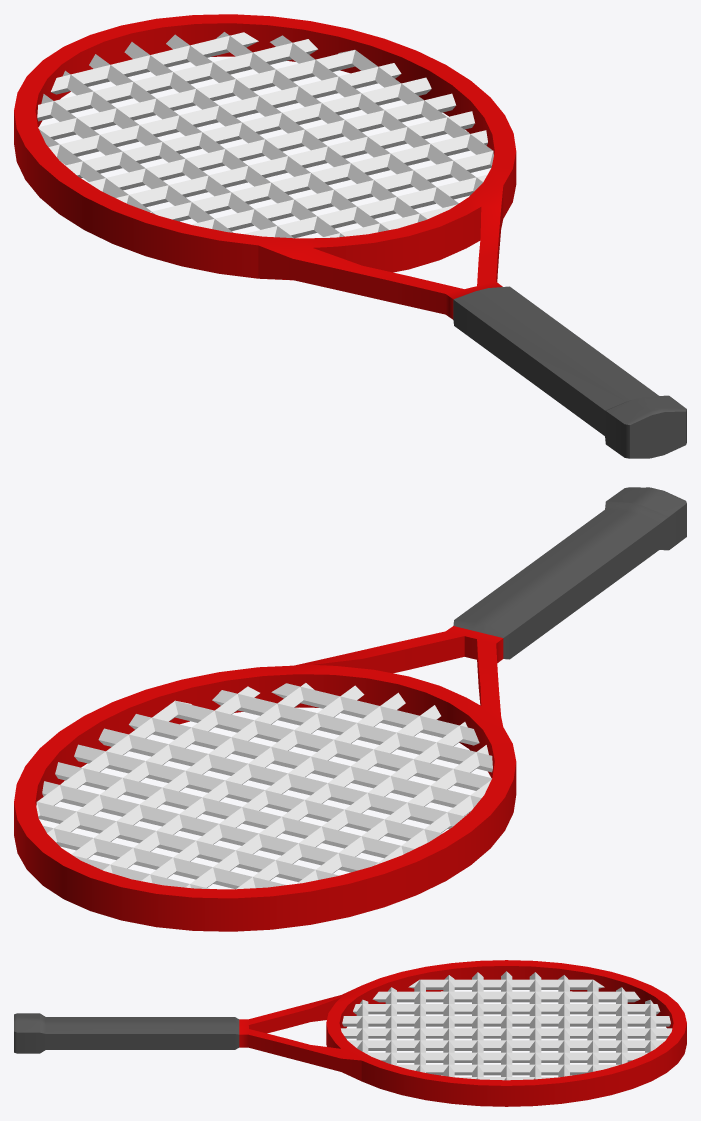
File: Tennis_racket_Red_01.fbx
3 renders of one model, top to bottom at view 1: azimuth 30°, elevation 25°; view 2: azimuth 150°, elevation 25°; view 3: azimuth 270°, elevation 25°, orthographic. The views are drawn at different scales.
Visible parts, largest first — view 1: Tennis_racket, Line_01; view 2: Tennis_racket, Line_01; view 3: Tennis_racket, Line_01.
Boxes of the visible parts, left/top/right/bottom form: Tennis_racket: left=14, top=14, right=686, bottom=458; Line_01: left=37, top=32, right=493, bottom=238; Tennis_racket: left=14, top=487, right=686, bottom=931; Line_01: left=36, top=683, right=492, bottom=889; Tennis_racket: left=14, top=960, right=686, bottom=1106; Line_01: left=341, top=971, right=672, bottom=1080.
Bounding box in the file's own units: 5.17 × 0.5667 × 11.68.
